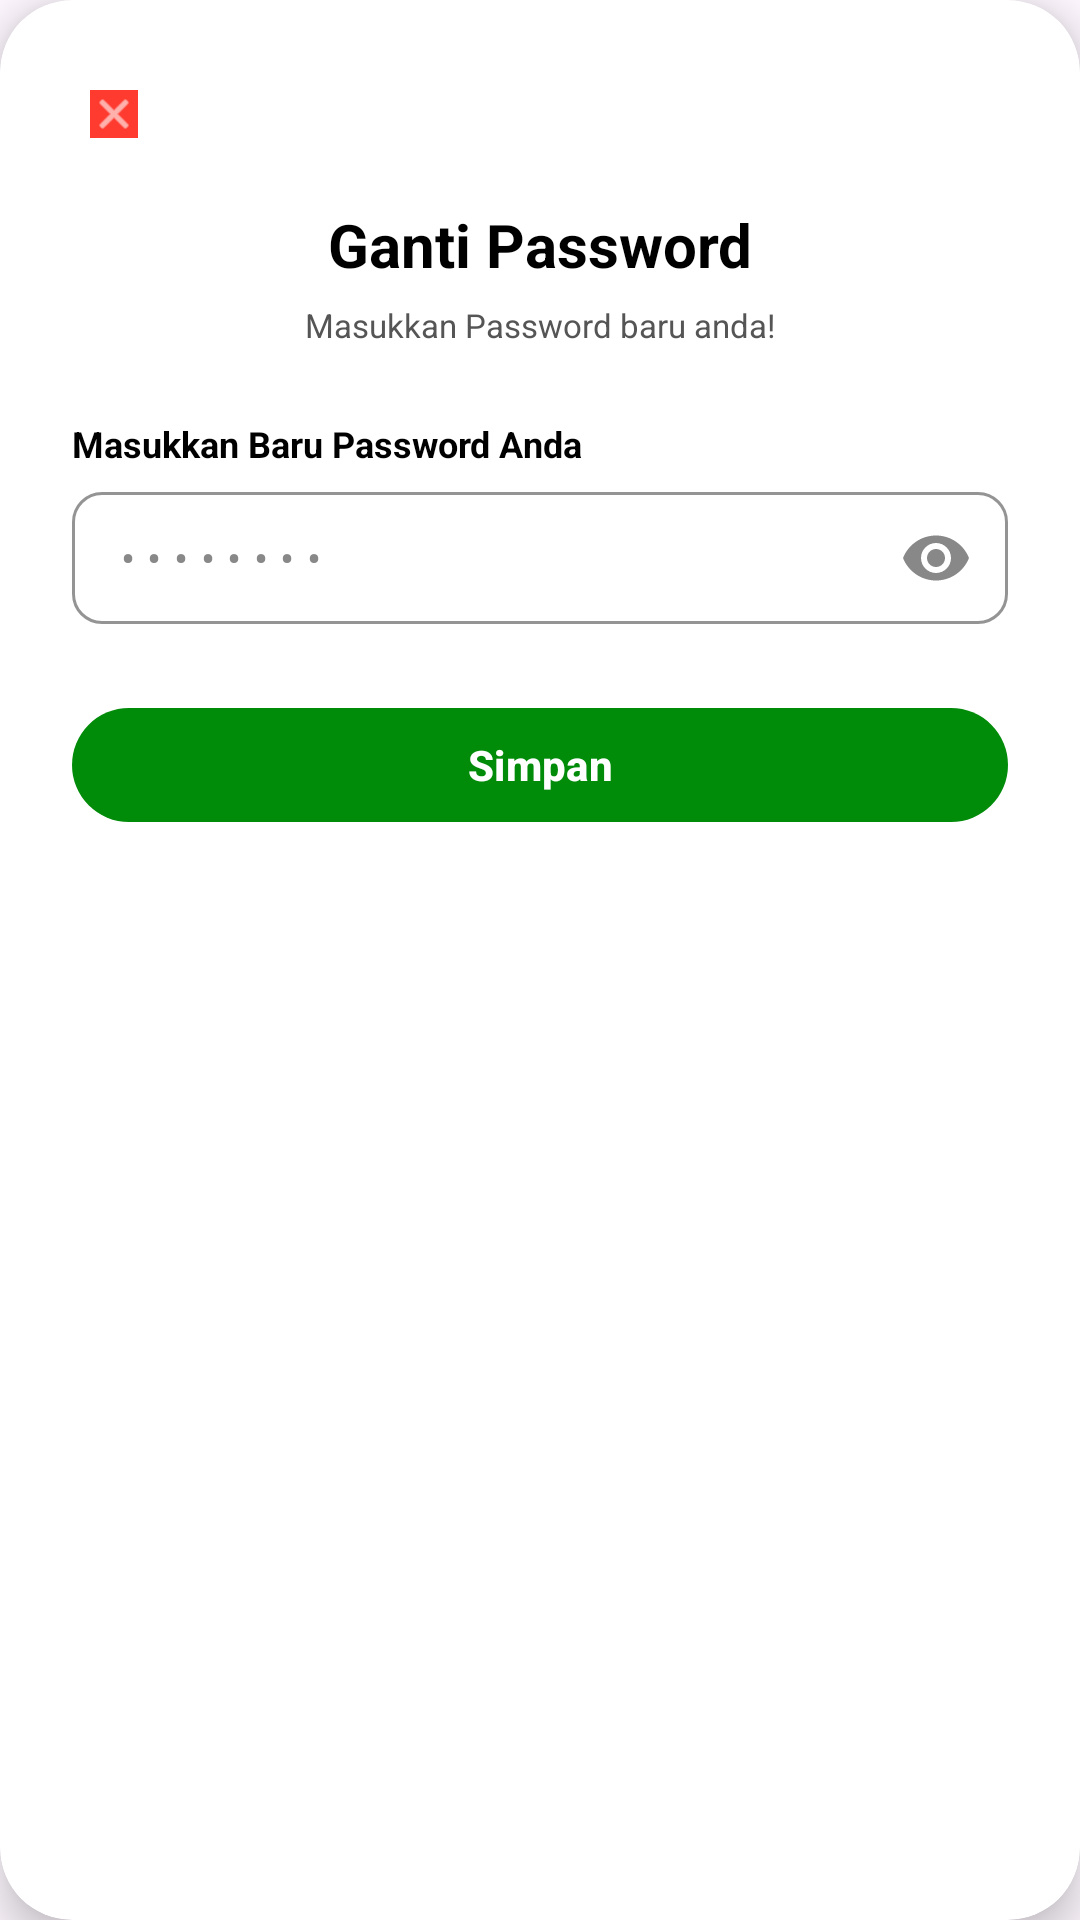

Icons on this 1080px×1920px Android screen, each with its box as (x1, y1, x2, y2):
close clear cancel: (90, 90, 138, 138)
